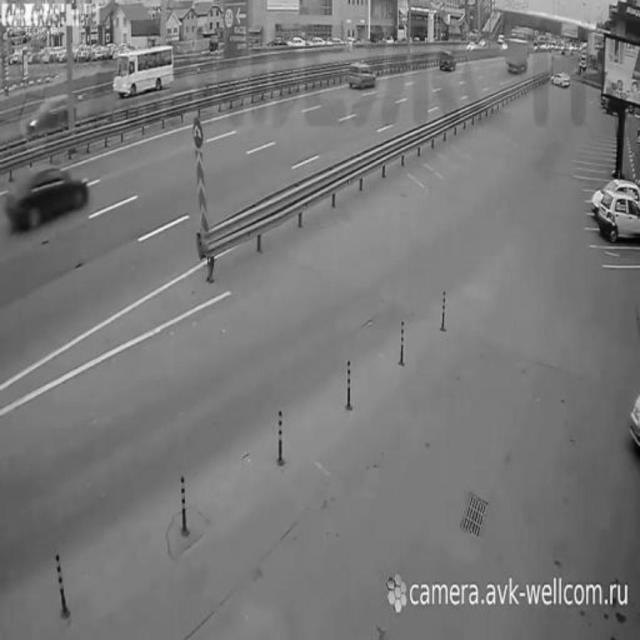vehicle: (10, 160, 88, 236), (112, 45, 176, 100), (599, 191, 640, 243), (21, 95, 71, 135), (505, 32, 532, 78), (349, 59, 377, 94), (550, 71, 572, 88), (438, 50, 456, 70)
